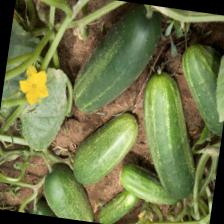cucumber: (68, 0, 165, 123), (128, 67, 210, 202), (69, 104, 139, 192), (38, 158, 101, 222)
